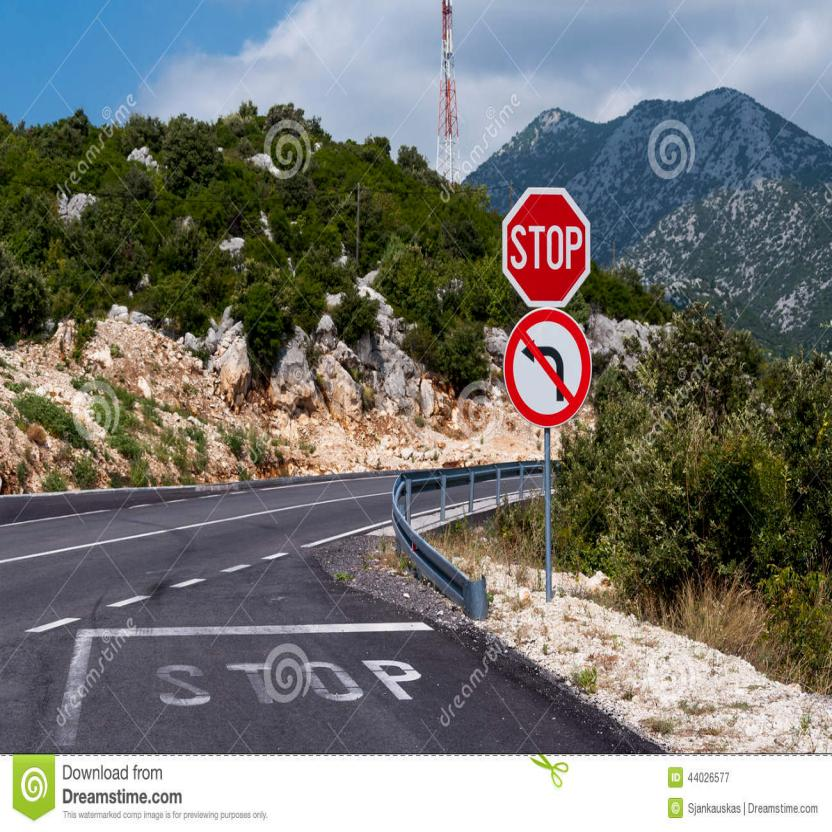Pole: (544, 429, 551, 599)
Sign: (503, 187, 592, 307)
